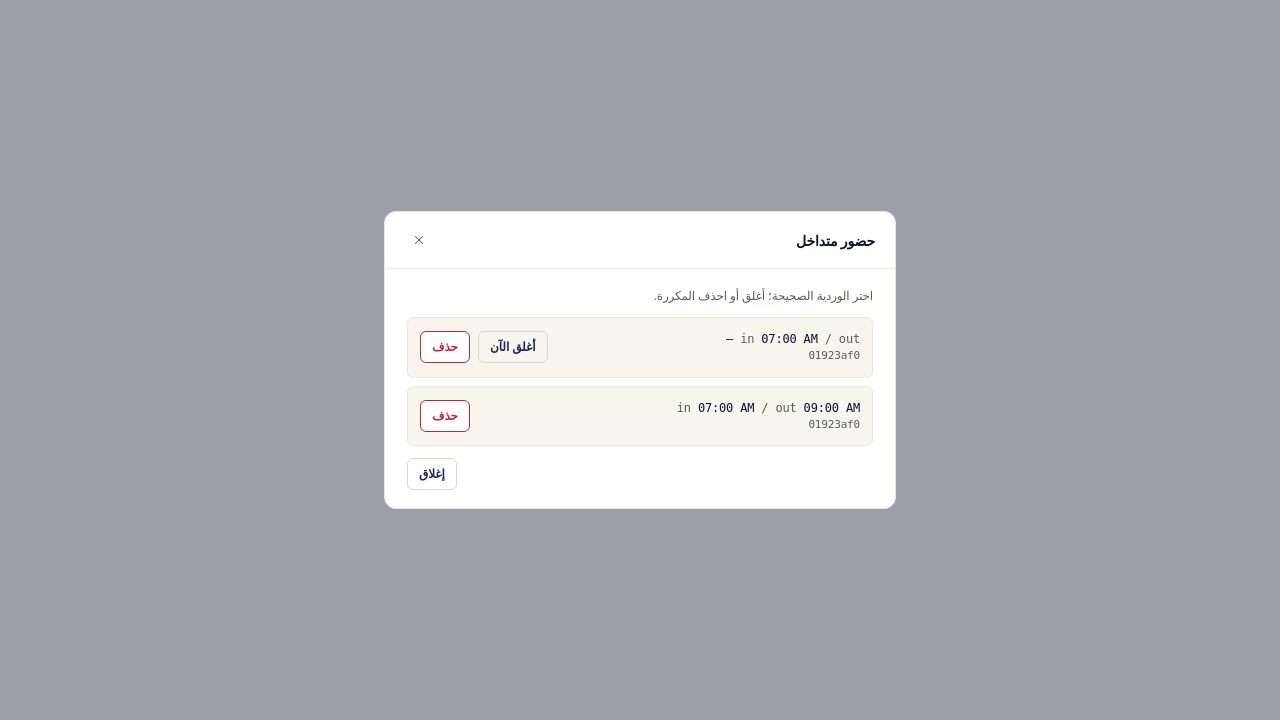
Test: Phase-09 §8 component-render: ResolveOverlappingShifts (dir=rtl) › close-now failure surfaces the raw error.message in the error banner
Expected: the number of list items is 2, [407,317,873,378]; [407,386,873,446]
Click the button "أغلق الآن" at {"x": 513, "y": 347}, box [478,331,548,363]
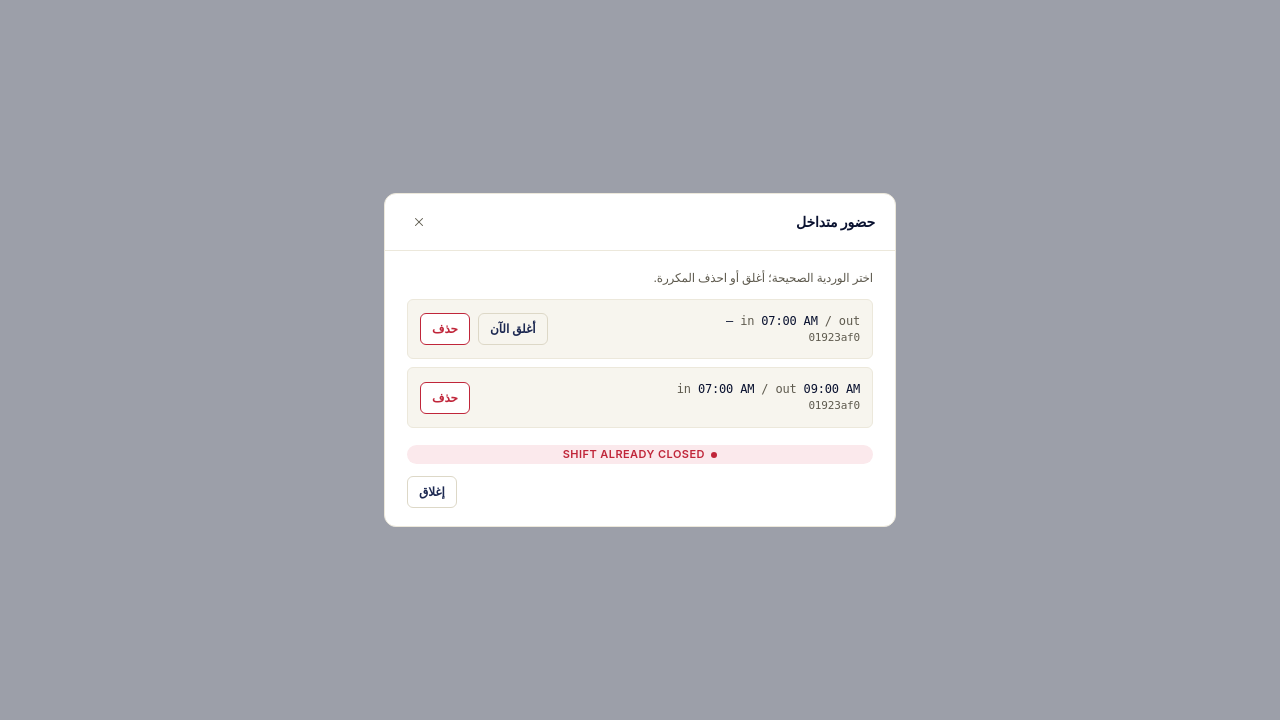
Expected: the text "shift already closed" is shown, [407,445,873,464]
